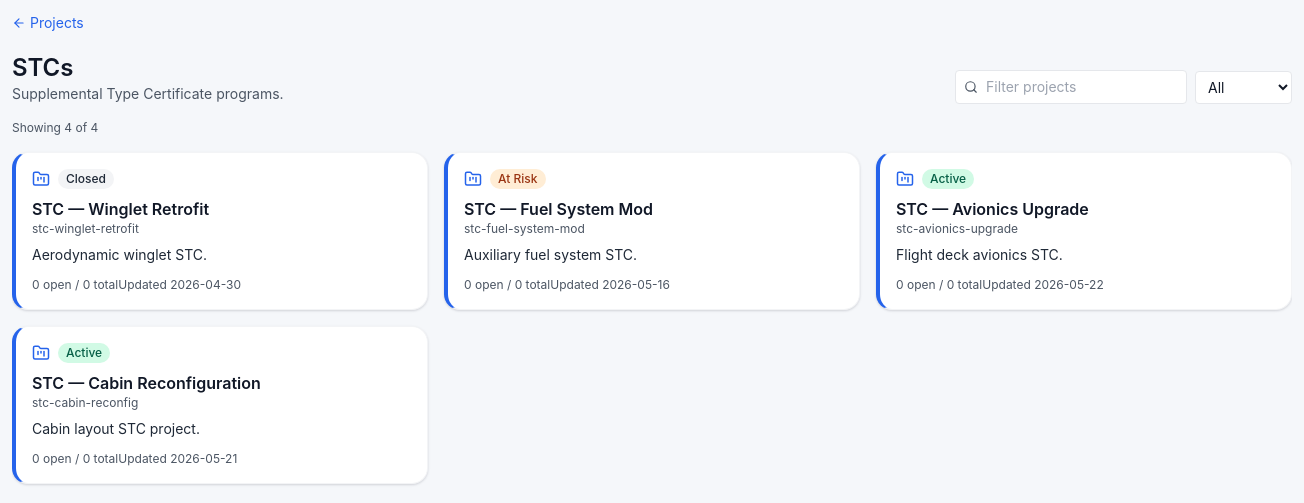
Scenario: <ProjectCategory /> drill-down › filters by search query
Check: the text "Showing 4 of 4" is shown, box [12,120,98,135]
In the field labelled "Filter projects": (1082, 87) [986,77,1178,97], type "avionics"
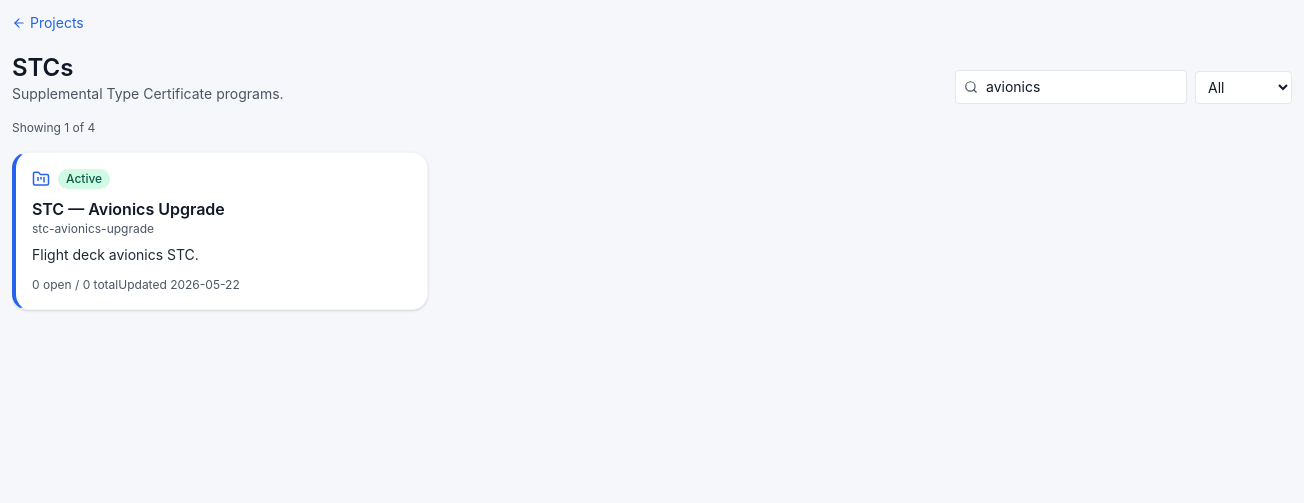
Check: the text "Showing 1 of 4" is shown, box [12,120,95,135]
